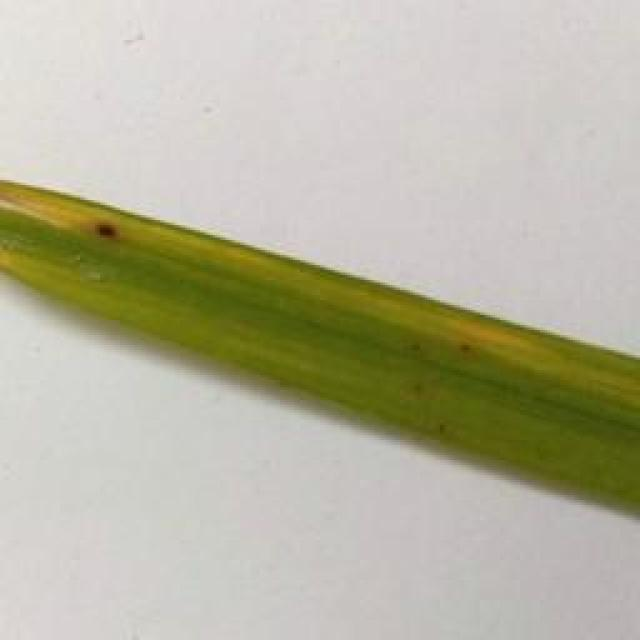Brown_Spot: (86, 207, 134, 251), (407, 361, 437, 402), (440, 338, 493, 351), (408, 332, 430, 361), (432, 416, 452, 436)
